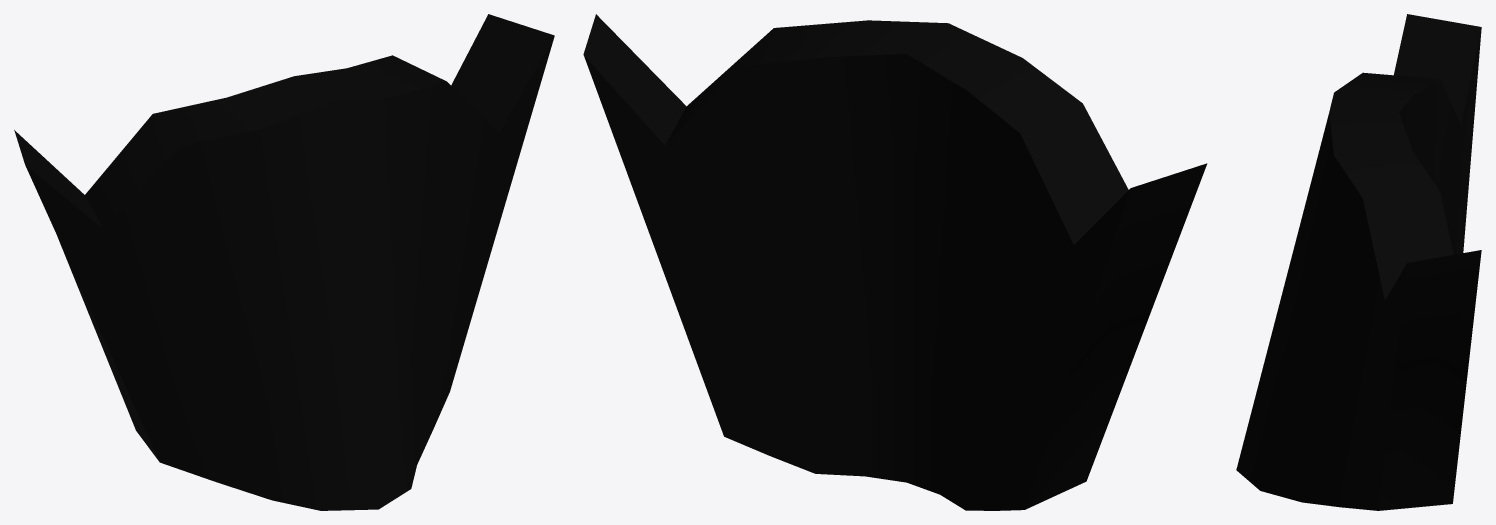
Rendered from Hair_24.fbx.
The picture shows the model from 3 angles, left to right: view 1: azimuth 30°, elevation 25°; view 2: azimuth 150°, elevation 25°; view 3: azimuth 270°, elevation 25°; orthographic projection. The views are drawn at different scales.
Visible parts, largest first — view 1: Hair_24; view 2: Hair_24; view 3: Hair_24.
Boxes of the visible parts, left/top/right/bottom form: Hair_24: left=14, top=14, right=554, bottom=510; Hair_24: left=583, top=14, right=1207, bottom=510; Hair_24: left=1236, top=14, right=1481, bottom=510.
Bounding box in the file's own units: 41.7 × 27.94 × 17.37.
